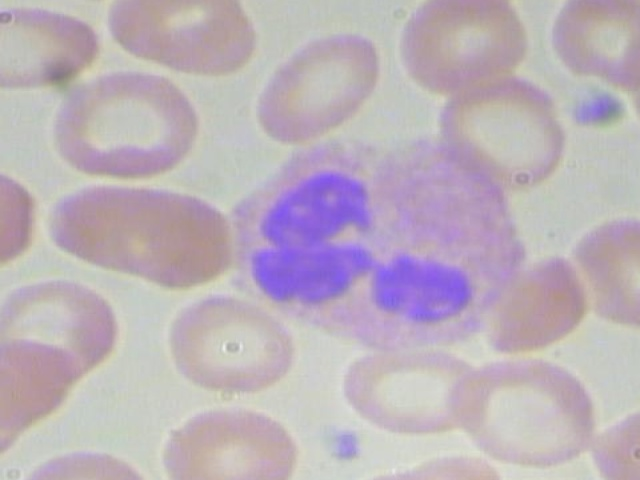Platelets: (555, 80, 631, 134), (319, 422, 374, 472)
RBC: (24, 170, 235, 295), (25, 67, 203, 187), (453, 348, 619, 471), (427, 66, 573, 196), (253, 20, 390, 153), (332, 340, 495, 441), (147, 293, 297, 398), (0, 273, 121, 382), (147, 405, 307, 480), (557, 199, 640, 339), (0, 4, 101, 97), (0, 158, 46, 281), (585, 390, 640, 480), (611, 25, 640, 155)
WBC: (203, 131, 554, 359)
